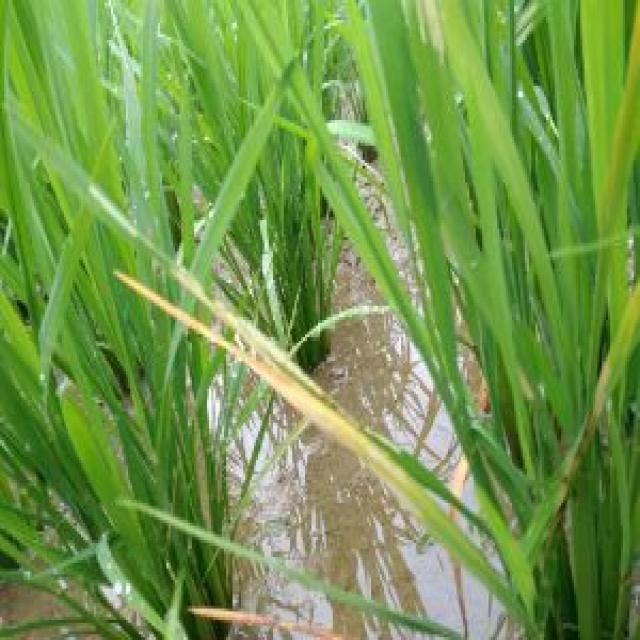Tungro: (102, 229, 482, 569)
